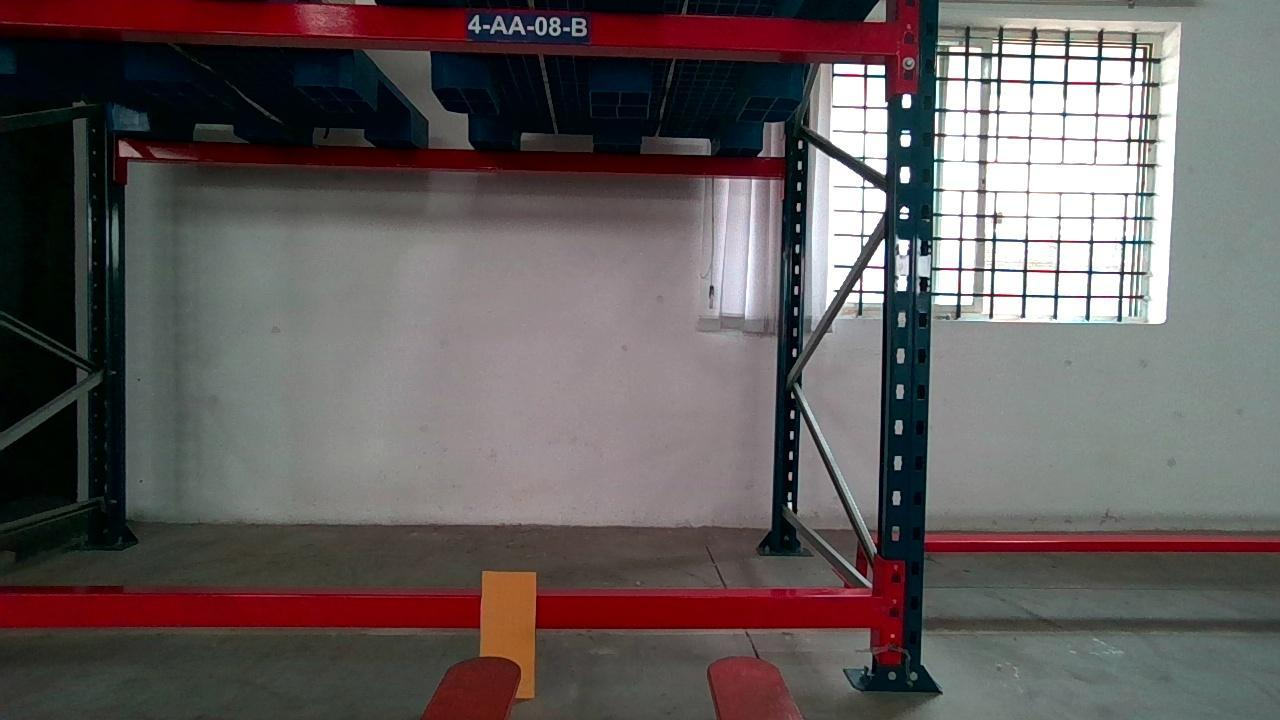h_rack: (2, 0, 896, 53), (2, 592, 882, 629)
orange_strip: (482, 570, 535, 696)
